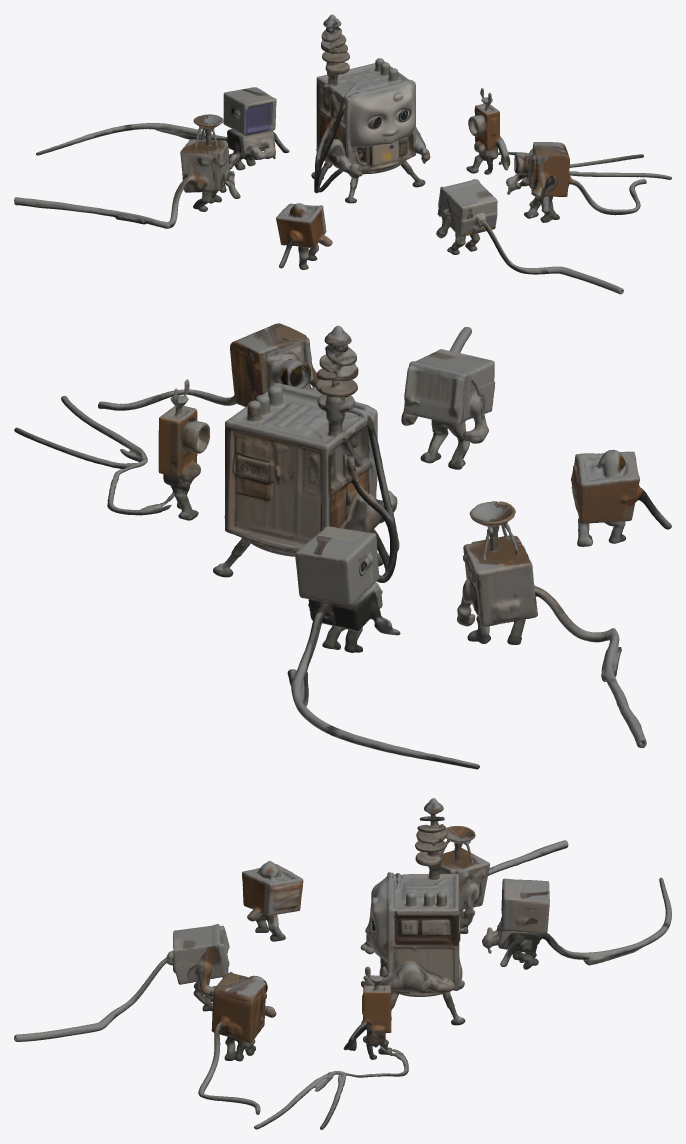
The model's file is alsep-science-station.meshopt-test.glb.
The picture shows the model from 3 angles, top to bottom: view 1: azimuth 30°, elevation 25°; view 2: azimuth 150°, elevation 25°; view 3: azimuth 270°, elevation 25°; orthographic projection. The views are drawn at different scales.
Parts seen in each view (by area): view 1: tripo_node_bb9fa6b7-726e-41fa-8063-67053dde6356; view 2: tripo_node_bb9fa6b7-726e-41fa-8063-67053dde6356; view 3: tripo_node_bb9fa6b7-726e-41fa-8063-67053dde6356.
Boxes of the visible parts, <box> form: tripo_node_bb9fa6b7-726e-41fa-8063-67053dde6356: <box>14,14,671,294</box>; tripo_node_bb9fa6b7-726e-41fa-8063-67053dde6356: <box>14,323,671,769</box>; tripo_node_bb9fa6b7-726e-41fa-8063-67053dde6356: <box>14,798,671,1129</box>.
Size of the model in its own units: 1 by 0.315 by 0.978.
Materials: 1 (1 with a texture image).
